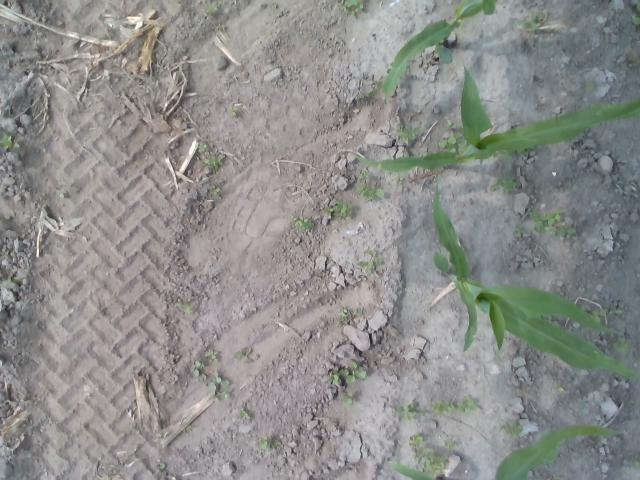Maize: (427, 173, 640, 384), (353, 63, 640, 170), (388, 424, 626, 480), (380, 0, 504, 105)
Weeds: (530, 209, 576, 237), (412, 446, 448, 476), (208, 372, 232, 402), (438, 132, 469, 154), (520, 11, 549, 32), (324, 199, 353, 220), (339, 361, 366, 383), (357, 78, 382, 100), (456, 395, 483, 414), (358, 182, 385, 200), (491, 175, 516, 194), (501, 420, 524, 440), (394, 402, 418, 421), (358, 257, 383, 275), (0, 131, 21, 152), (341, 0, 365, 18), (397, 124, 422, 141), (289, 214, 314, 230), (432, 400, 453, 415), (336, 308, 352, 327), (203, 156, 224, 170), (612, 336, 630, 352), (492, 150, 514, 161), (175, 300, 192, 314), (590, 309, 608, 322), (627, 450, 640, 468), (190, 360, 204, 376), (202, 1, 219, 14), (204, 348, 219, 362), (632, 1, 640, 26), (340, 392, 354, 406), (326, 372, 341, 384), (196, 141, 212, 152), (208, 184, 221, 197), (409, 433, 423, 445), (584, 80, 597, 92), (237, 407, 250, 419), (259, 436, 270, 450), (516, 146, 531, 156), (443, 440, 458, 450), (444, 120, 456, 131), (358, 170, 370, 181), (234, 348, 247, 358), (362, 248, 377, 256), (226, 106, 239, 115), (610, 308, 624, 316), (2, 277, 18, 284), (514, 224, 524, 235), (554, 384, 566, 392), (271, 439, 281, 448), (419, 408, 428, 417), (182, 424, 192, 432), (630, 52, 638, 61), (396, 176, 404, 184), (216, 24, 226, 30), (354, 310, 363, 314)
